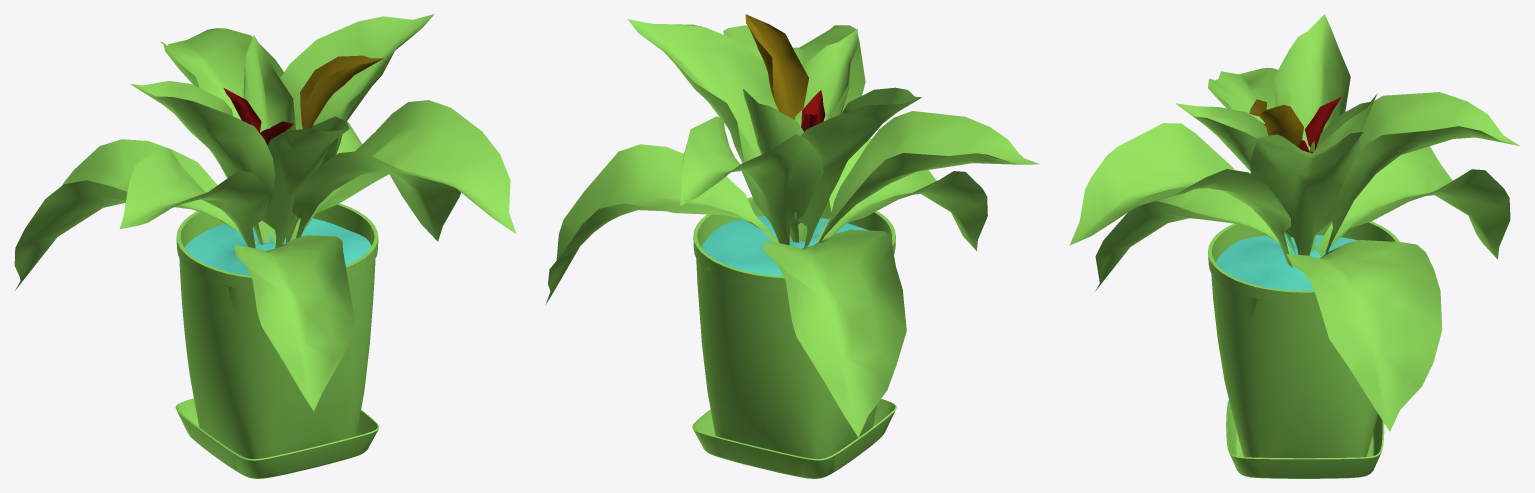
3 renders of one model, left to right at view 1: azimuth 30°, elevation 25°; view 2: azimuth 150°, elevation 25°; view 3: azimuth 270°, elevation 25°, orthographic. The views are drawn at different scales.
Parts seen in each view (by area): view 1: Group_001, Group_004, Group_002, Group_006, Group_005; view 2: Group_001, Group_004, Group_002, Group_006, Group_005; view 3: Group_001, Group_004, Group_002, Group_006, Group_005.
Part boxes in pixels (x1,y1,x2,y2): Group_001: [14, 14, 516, 411]; Group_004: [175, 203, 379, 478]; Group_002: [184, 218, 371, 275]; Group_006: [300, 55, 383, 128]; Group_005: [223, 88, 294, 145]; Group_001: [545, 19, 1039, 437]; Group_004: [692, 197, 896, 478]; Group_002: [701, 216, 868, 276]; Group_006: [745, 14, 808, 119]; Group_005: [801, 90, 825, 131]; Group_001: [1069, 14, 1519, 431]; Group_004: [1208, 220, 1399, 478]; Group_002: [1216, 235, 1357, 290]; Group_006: [1249, 99, 1303, 146]; Group_005: [1263, 97, 1341, 153].
Size of the model in its own units: 378 by 341 by 373.
